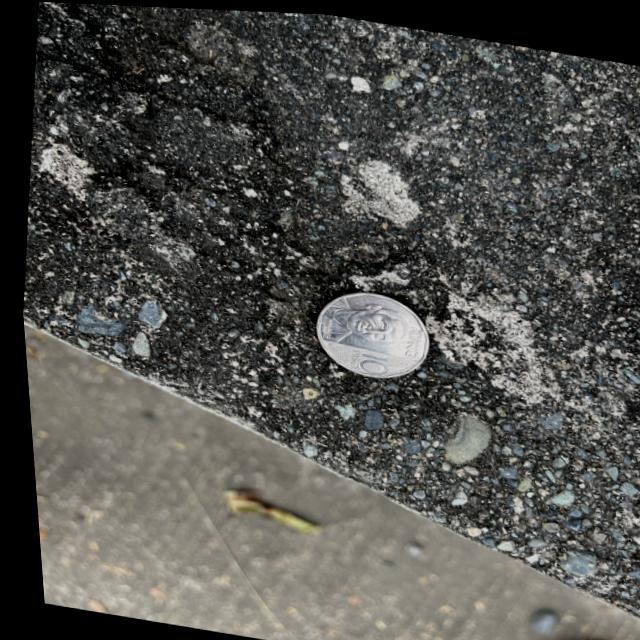10_New_Front: (330, 336, 395, 379)
